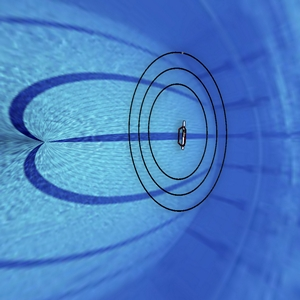circle: (109, 36, 242, 220)
submarine: (169, 116, 194, 157)
